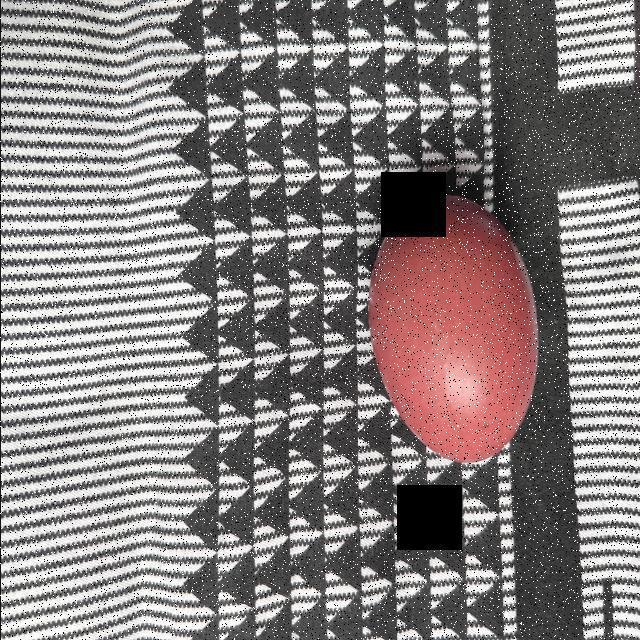egg: (367, 189, 540, 466)
